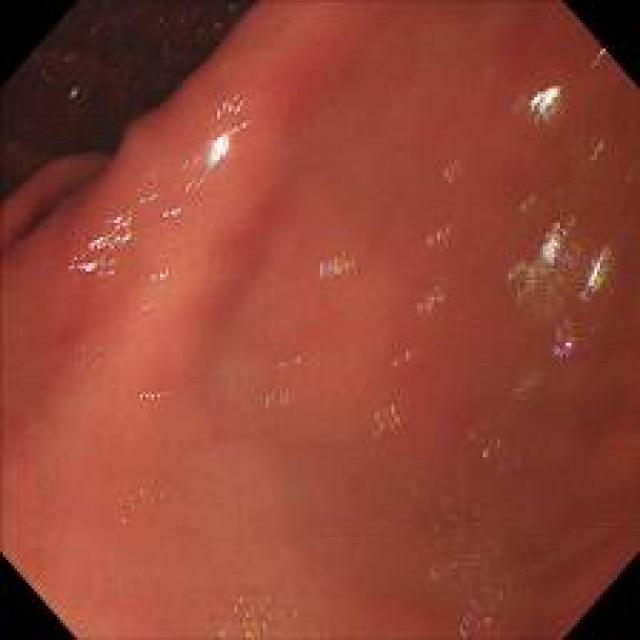bubbles: (76, 342, 108, 365)
color misalignment: (509, 199, 610, 350), (432, 525, 519, 628), (69, 206, 130, 281), (199, 585, 304, 628), (204, 96, 252, 165), (114, 478, 179, 525), (318, 248, 371, 294), (174, 158, 220, 209), (469, 415, 509, 472), (429, 148, 478, 186), (508, 360, 544, 409), (524, 78, 565, 118), (365, 410, 404, 446), (421, 220, 461, 254), (419, 291, 448, 320), (131, 386, 171, 405), (262, 388, 295, 410), (271, 350, 306, 369), (589, 128, 606, 166), (391, 344, 415, 370), (132, 190, 161, 210), (159, 205, 184, 224), (146, 270, 178, 281)
contrast: (2, 8, 234, 216)
specularity: (78, 214, 128, 275), (528, 82, 560, 110), (585, 259, 606, 291), (541, 226, 559, 261), (210, 134, 230, 164)
